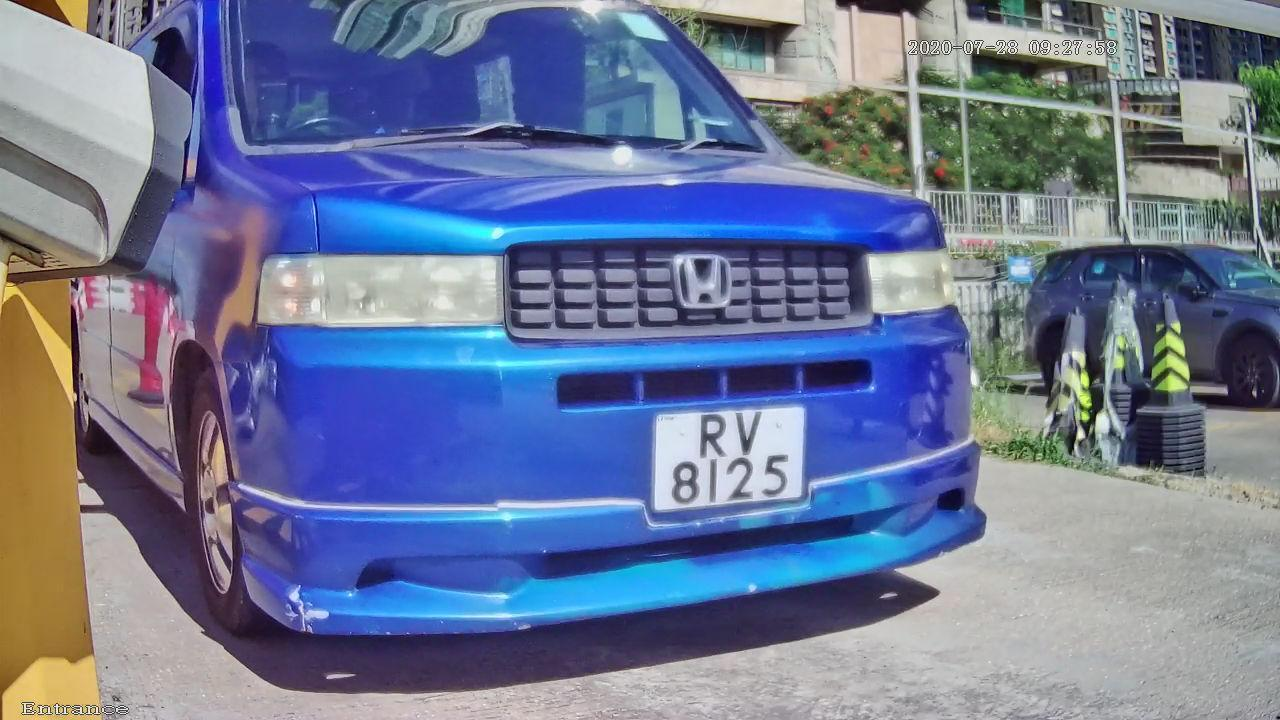privatecar: (12, 20, 1155, 682)
